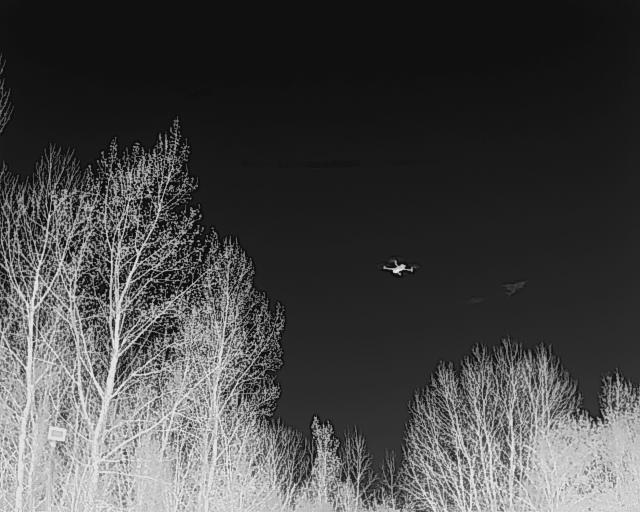drone: (377, 253, 421, 281)
